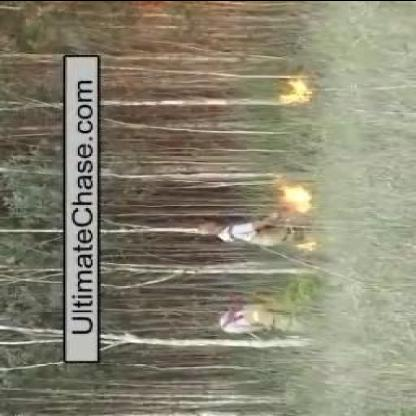foggia-v2-map80-epoch100 - v1 4323: (284, 78, 312, 102), (286, 185, 310, 212)
